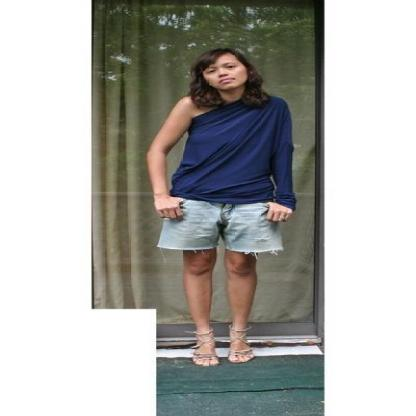shirt: (168, 96, 296, 207)
shoe: (191, 341, 254, 366)
shorts: (157, 199, 282, 257)
